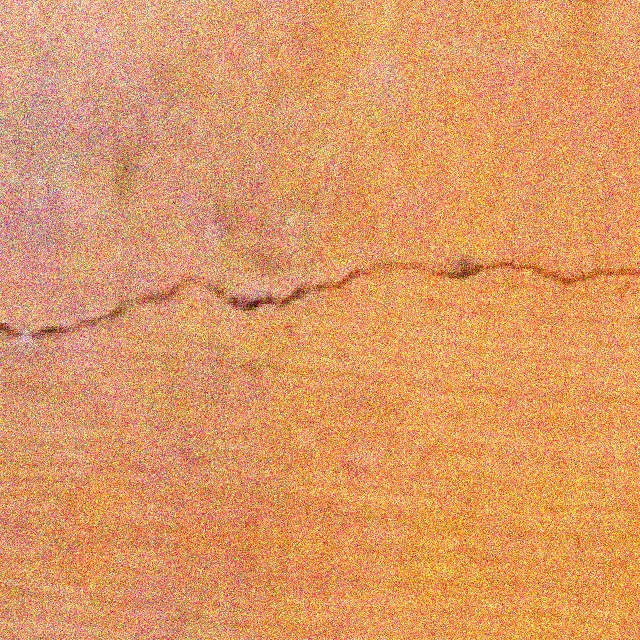SurfaceCrack: (0, 220, 638, 374)
